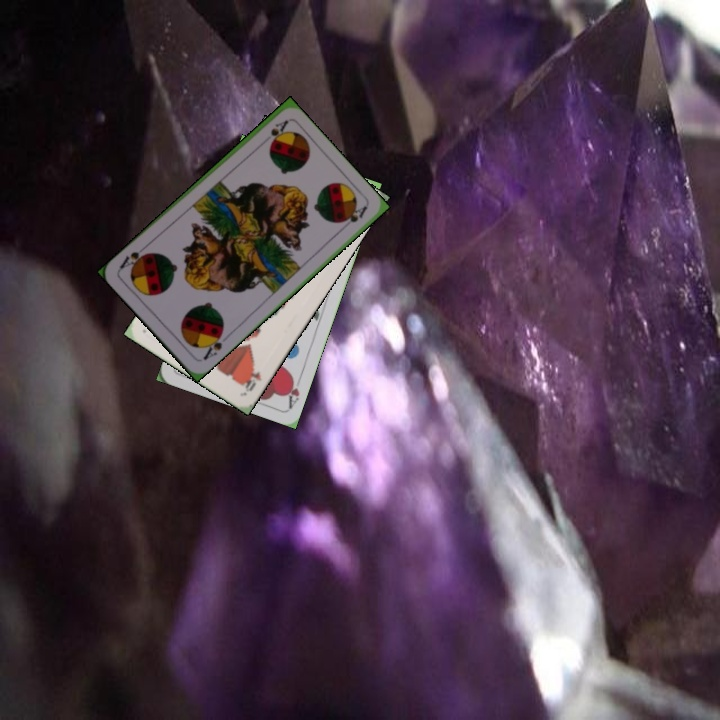HA: (282, 371, 305, 410)
HO: (239, 364, 264, 395)
SA: (199, 327, 226, 363), (266, 116, 291, 143)
